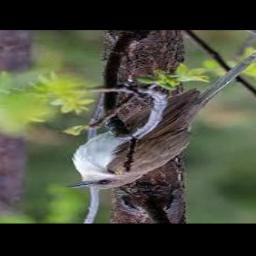Cuckoo: (65, 48, 256, 190)
